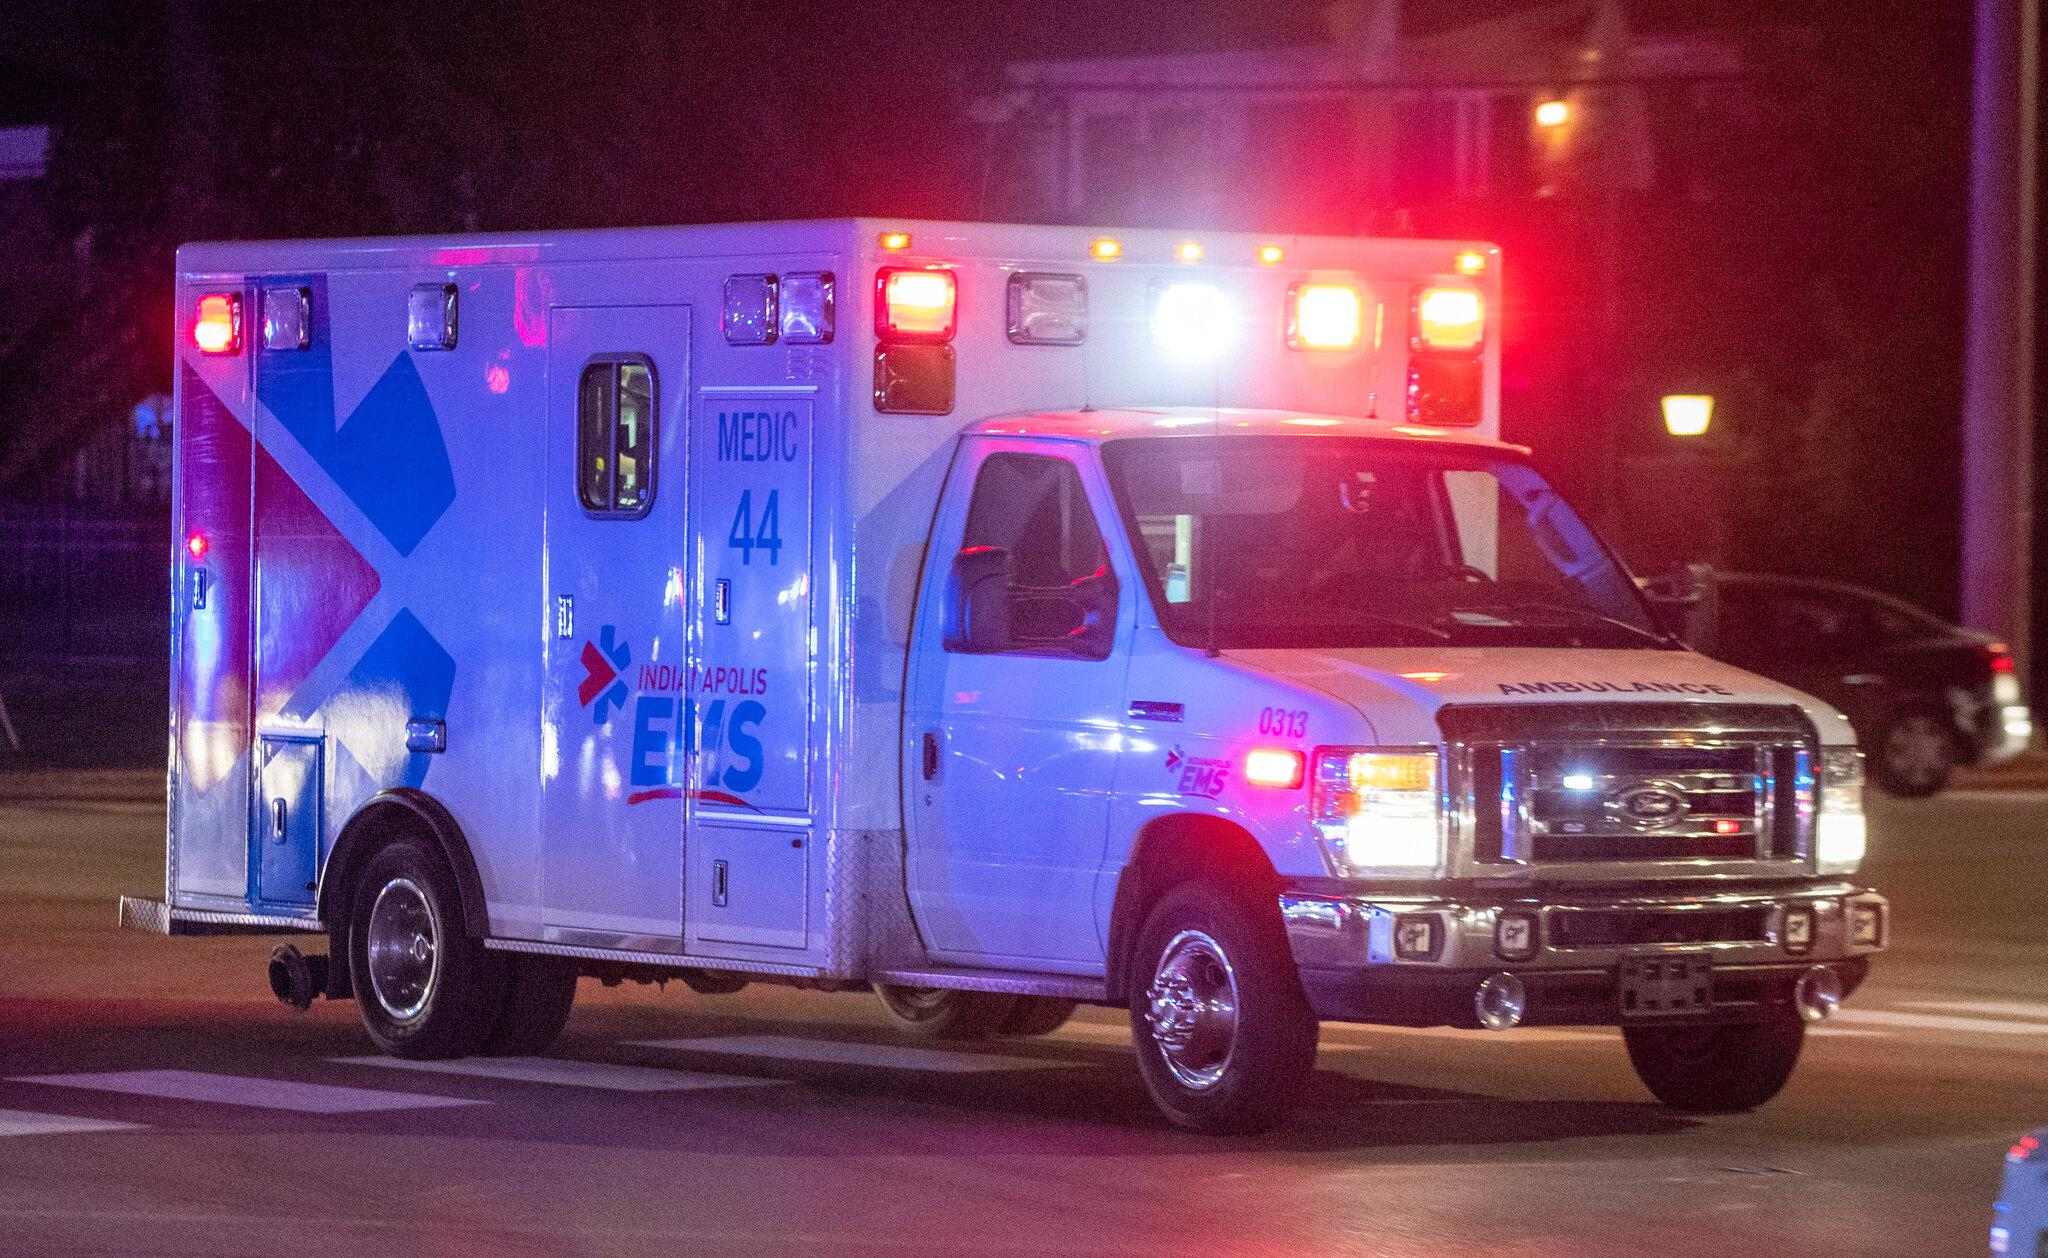ambulance_on: (121, 212, 1896, 1137)
